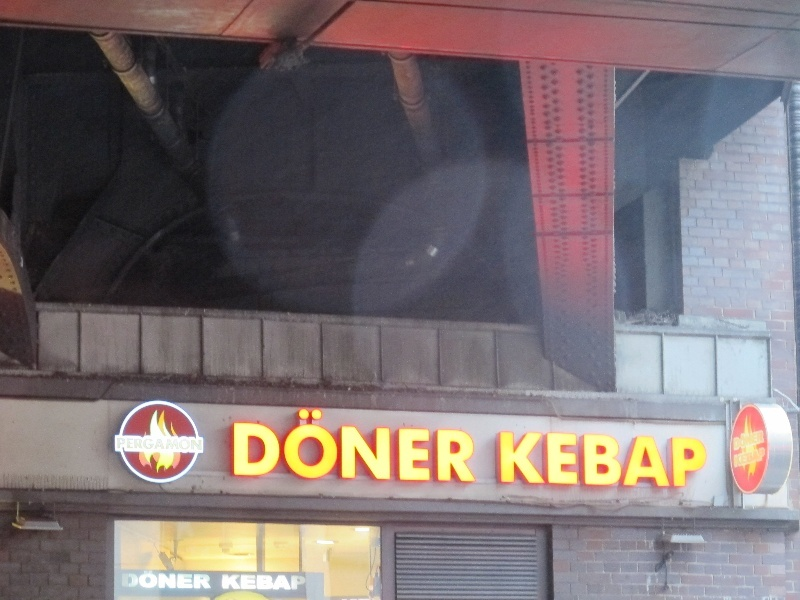text: (241, 408, 256, 485), (257, 408, 272, 485), (273, 408, 288, 485), (289, 408, 304, 485), (305, 408, 320, 485), (321, 408, 336, 485), (337, 408, 352, 485), (353, 408, 368, 485), (369, 408, 384, 485), (385, 408, 400, 485), (401, 408, 416, 485), (417, 408, 432, 485), (433, 408, 448, 485), (449, 408, 464, 485), (465, 408, 478, 485), (513, 433, 528, 489), (529, 433, 544, 489), (545, 433, 560, 489), (561, 433, 576, 489), (577, 433, 592, 489), (593, 433, 608, 489), (609, 433, 624, 489), (625, 433, 640, 489), (641, 433, 656, 489), (657, 433, 672, 489), (673, 433, 688, 489), (689, 433, 704, 489), (500, 433, 512, 489), (233, 408, 240, 485), (737, 445, 752, 468), (737, 430, 752, 451), (753, 445, 765, 468), (753, 430, 766, 451), (225, 574, 240, 592), (241, 574, 256, 592), (257, 574, 272, 592), (273, 574, 288, 592), (289, 574, 304, 592), (129, 575, 144, 592), (145, 575, 160, 592), (161, 575, 176, 592), (177, 575, 192, 592), (193, 575, 208, 592), (129, 437, 144, 451), (145, 437, 160, 451), (161, 437, 176, 451), (177, 437, 192, 451), (705, 433, 708, 489), (116, 437, 128, 451), (193, 437, 203, 451), (209, 575, 214, 592), (124, 575, 128, 592), (734, 445, 736, 468), (734, 430, 736, 451), (222, 574, 224, 592), (305, 574, 306, 592)
